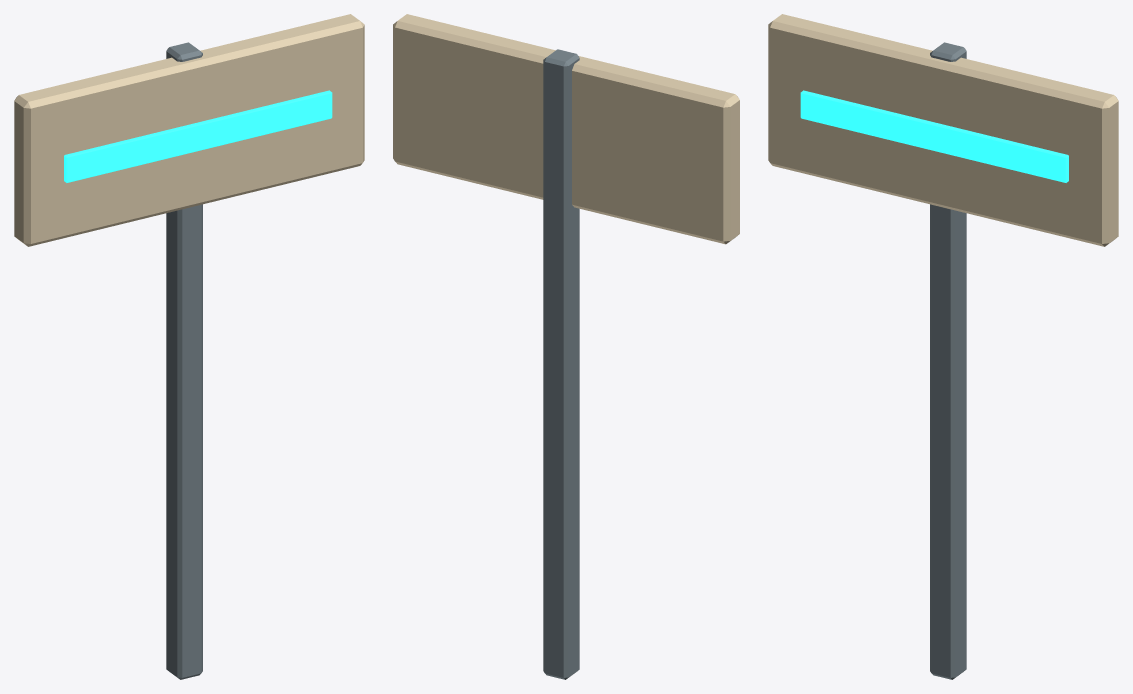
The model's file is street_024_seed11.glb.
3 renders of one model, left to right at view 1: azimuth 30°, elevation 25°; view 2: azimuth 150°, elevation 25°; view 3: azimuth 330°, elevation 25°, orthographic.
Visible parts, largest first — view 1: street_024_seed11; view 2: street_024_seed11; view 3: street_024_seed11.
Boxes of the visible parts, <box> form: street_024_seed11: <box>14,14,364,679</box>; street_024_seed11: <box>393,14,739,679</box>; street_024_seed11: <box>768,14,1118,679</box>.
Size of the model in its own units: 1.6 by 2.8 by 0.1825.
